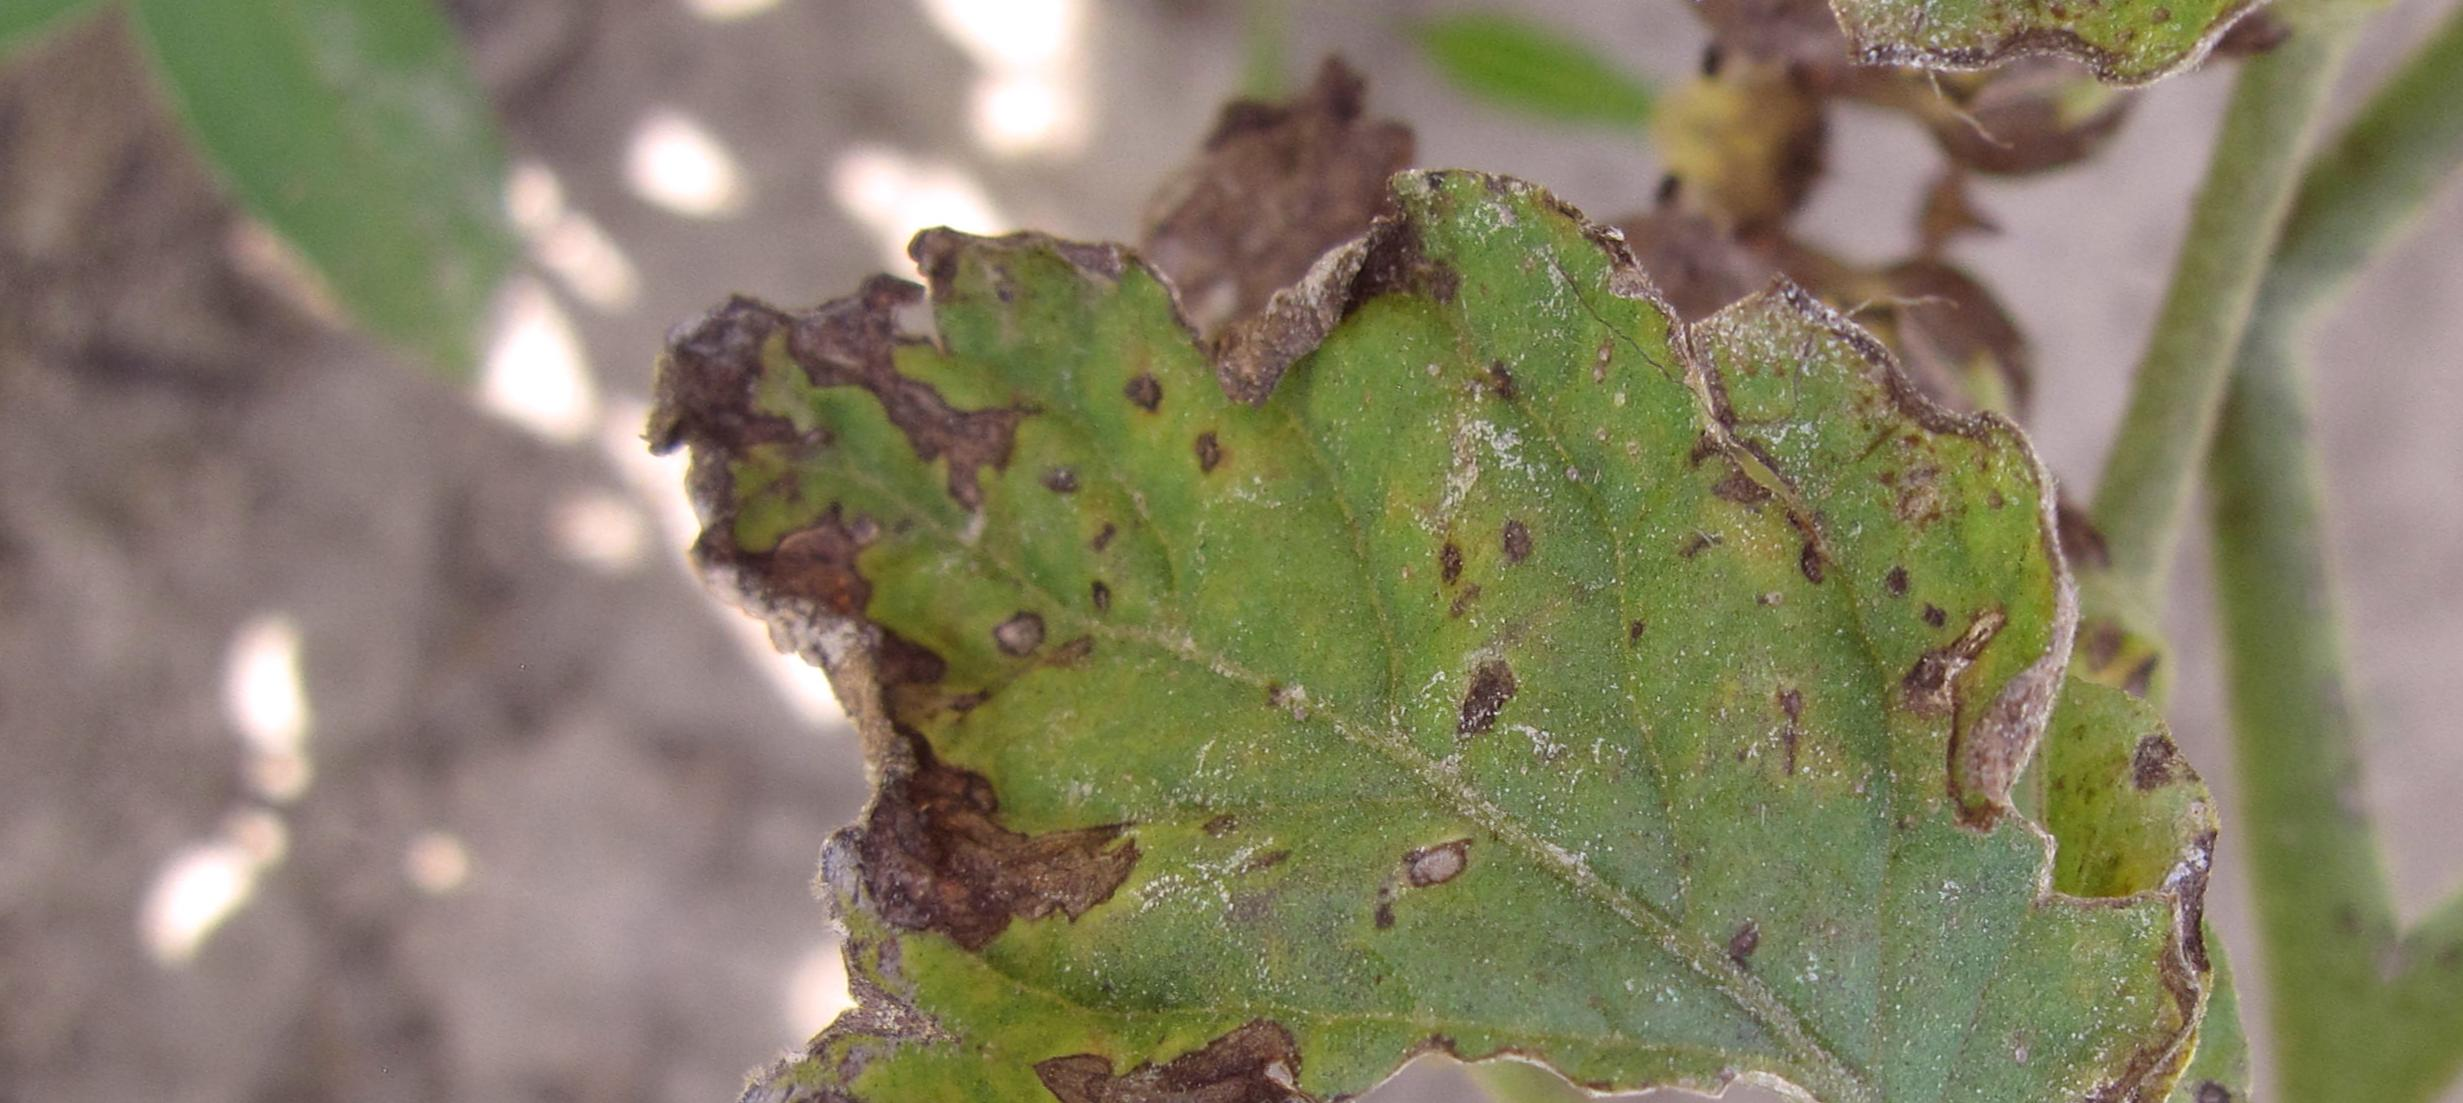Tomato leaf bacterial spot: (523, 0, 2463, 1103)
